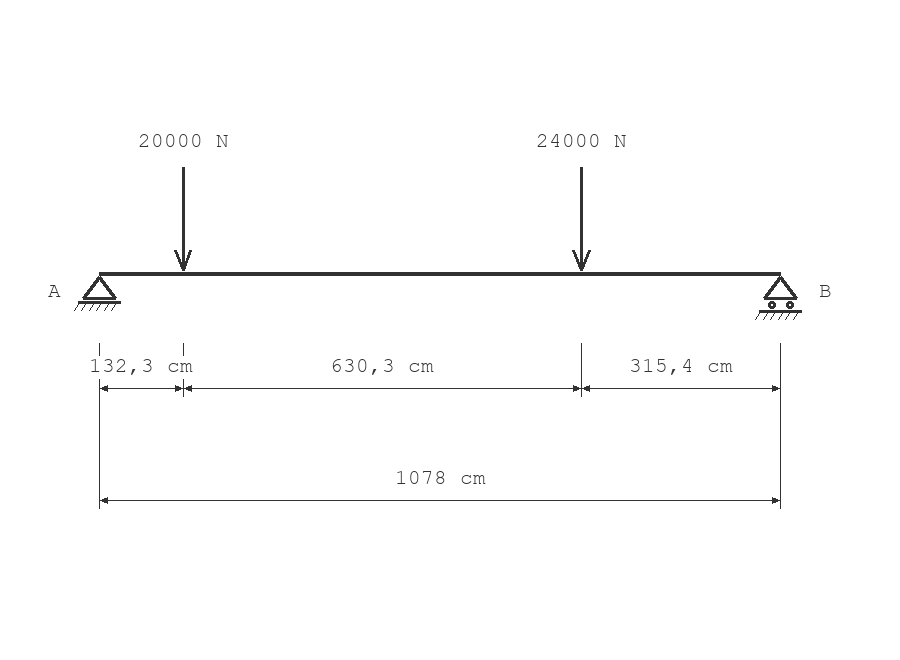pin_support: (74, 276, 121, 311)
point_load: (572, 167, 591, 271), (174, 167, 192, 271)
roller_support: (755, 276, 802, 320)
